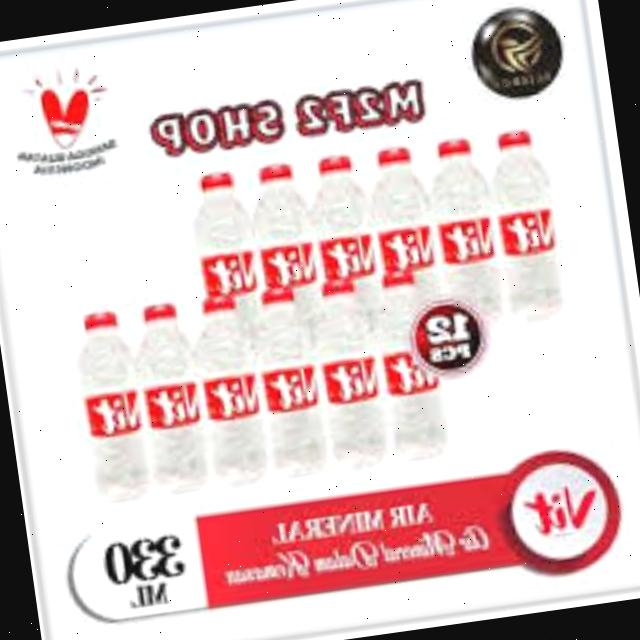trash: (296, 149, 400, 358), (359, 139, 462, 348), (482, 117, 582, 332), (240, 152, 344, 356), (182, 164, 276, 372), (61, 312, 158, 508), (300, 266, 396, 462), (423, 126, 514, 331), (365, 264, 457, 466), (242, 276, 334, 476), (134, 296, 215, 489), (197, 290, 270, 483)
